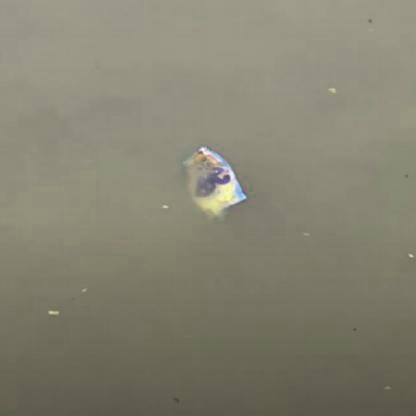Trash: (173, 139, 250, 220)
